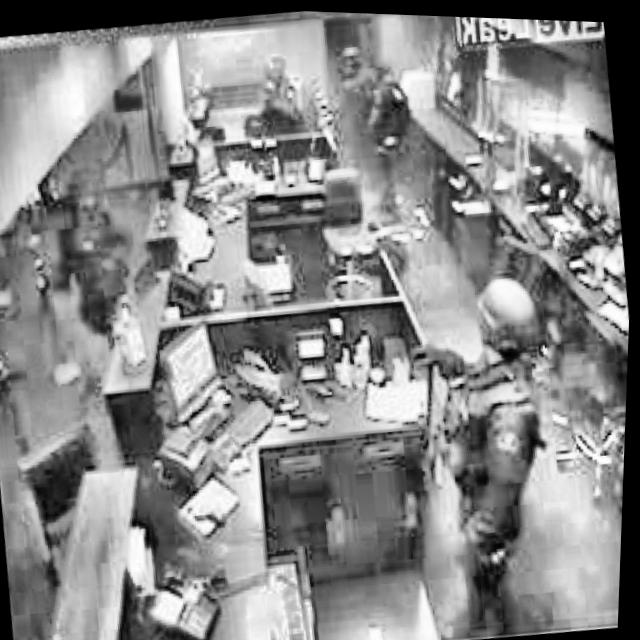robbery: (390, 260, 585, 640), (324, 35, 426, 229)
